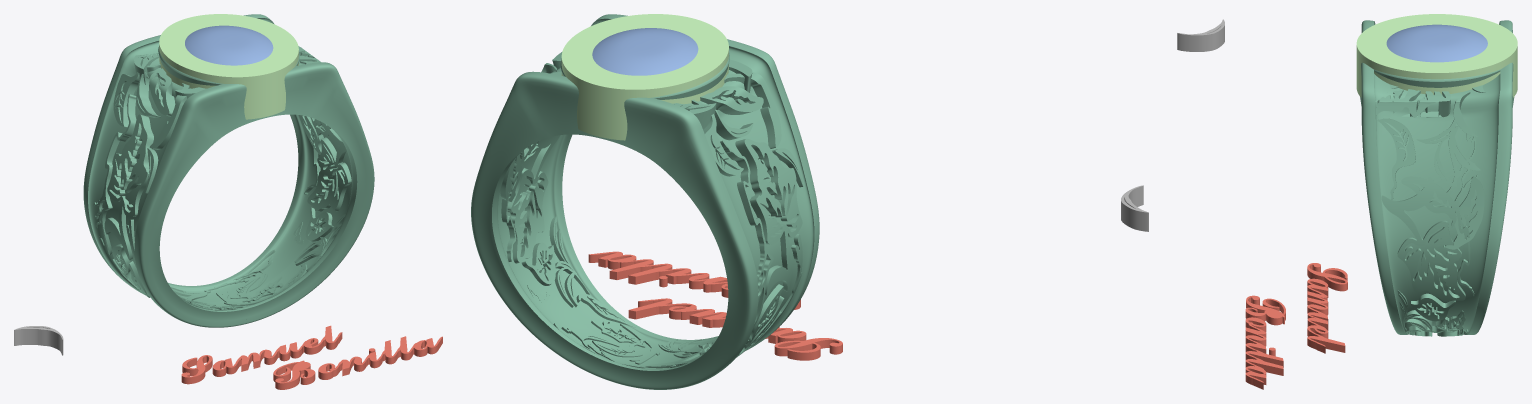
3 views of the same model, side by side, from view 1: azimuth 30°, elevation 25°; view 2: azimuth 150°, elevation 25°; view 3: azimuth 270°, elevation 25° (orthographic). The views are drawn at different scales.
Visible parts, largest first — view 1: anillo con trapiche.3dm, Gem; view 2: anillo con trapiche.3dm, Gem; view 3: anillo con trapiche.3dm, Gem.
Part boxes in pixels (x1,y1,x2,y2): anillo con trapiche.3dm: [14, 14, 442, 389]; Gem: [185, 25, 273, 65]; anillo con trapiche.3dm: [471, 14, 1148, 389]; Gem: [592, 28, 698, 75]; anillo con trapiche.3dm: [1177, 14, 1517, 389]; Gem: [1386, 24, 1487, 62].
Size of the model in its own units: 4.25 by 2.49 by 2.68.
